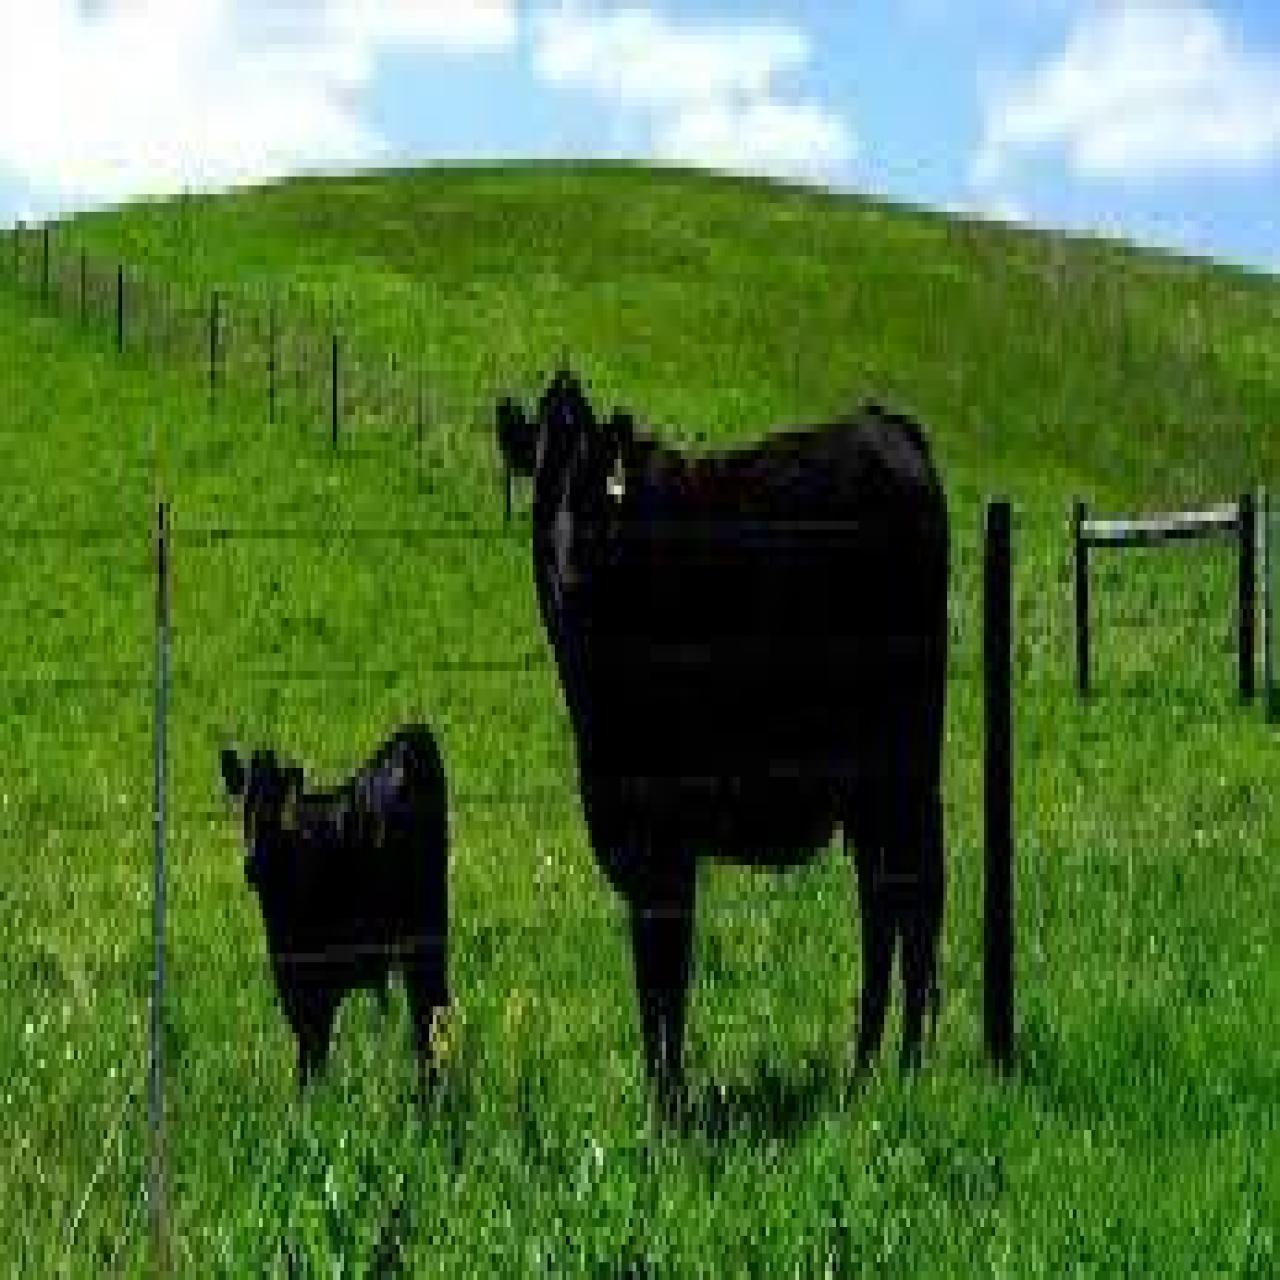cow: (505, 353, 953, 1085), (215, 715, 455, 1095)
